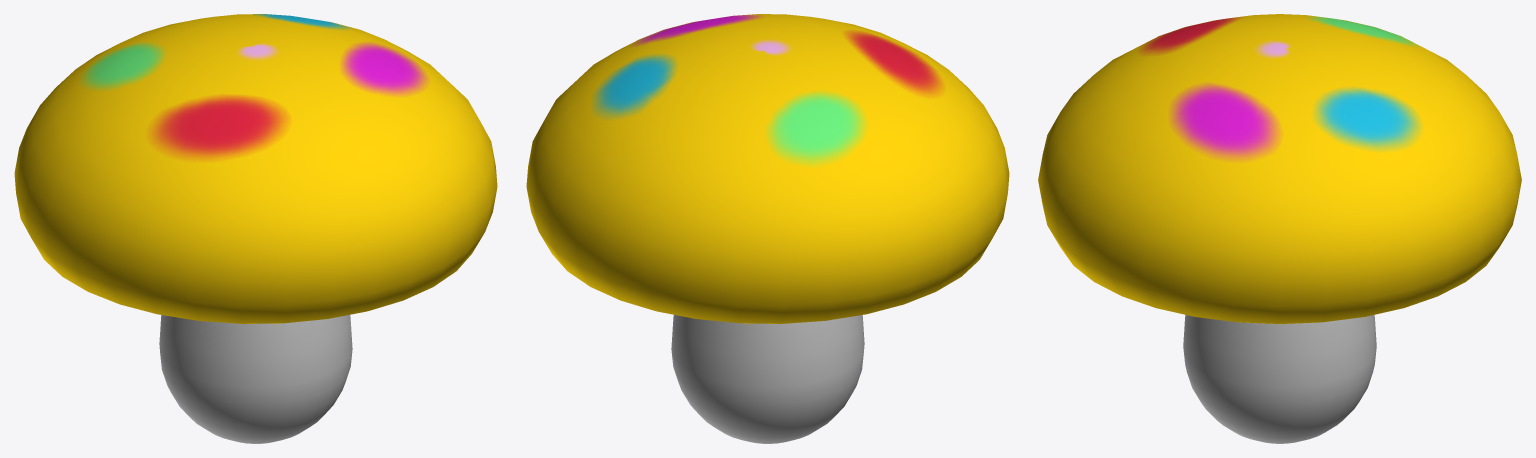
The model's file is bounceshroom.fbx.
The picture shows the model from 3 angles, left to right: view 1: azimuth 30°, elevation 25°; view 2: azimuth 150°, elevation 25°; view 3: azimuth 270°, elevation 25°; orthographic projection.
Parts seen in each view (by area): view 1: Top, Body; view 2: Top, Body; view 3: Top, Body.
Boxes of the visible parts, bbox=[...] form: Top: bbox=[14, 14, 497, 323]; Body: bbox=[159, 315, 352, 443]; Top: bbox=[526, 14, 1009, 323]; Body: bbox=[671, 315, 864, 443]; Top: bbox=[1038, 14, 1521, 324]; Body: bbox=[1183, 315, 1376, 443].
Bounding box in the file's own units: 500 × 441 × 500.
